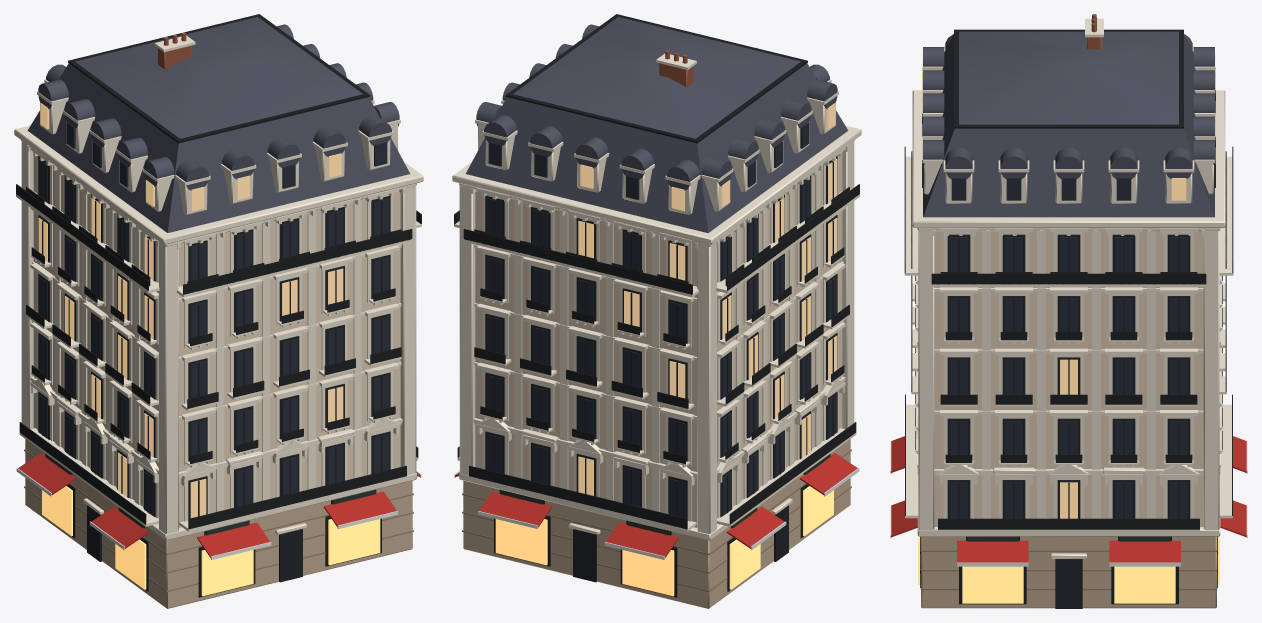
The model's file is building_b.fbx.
3 renders of one model, left to right at view 1: azimuth 30°, elevation 25°; view 2: azimuth 150°, elevation 25°; view 3: azimuth 270°, elevation 25°, orthographic. The views are drawn at different scales.
Parts seen in each view (by area): view 1: building_b; view 2: building_b; view 3: building_b.
Boxes of the visible parts, <box> form: building_b: <box>14,14,423,608</box>; building_b: <box>452,14,861,608</box>; building_b: <box>890,14,1247,608</box>.
Size of the model in its own units: 16.89 by 26.65 by 16.89.
